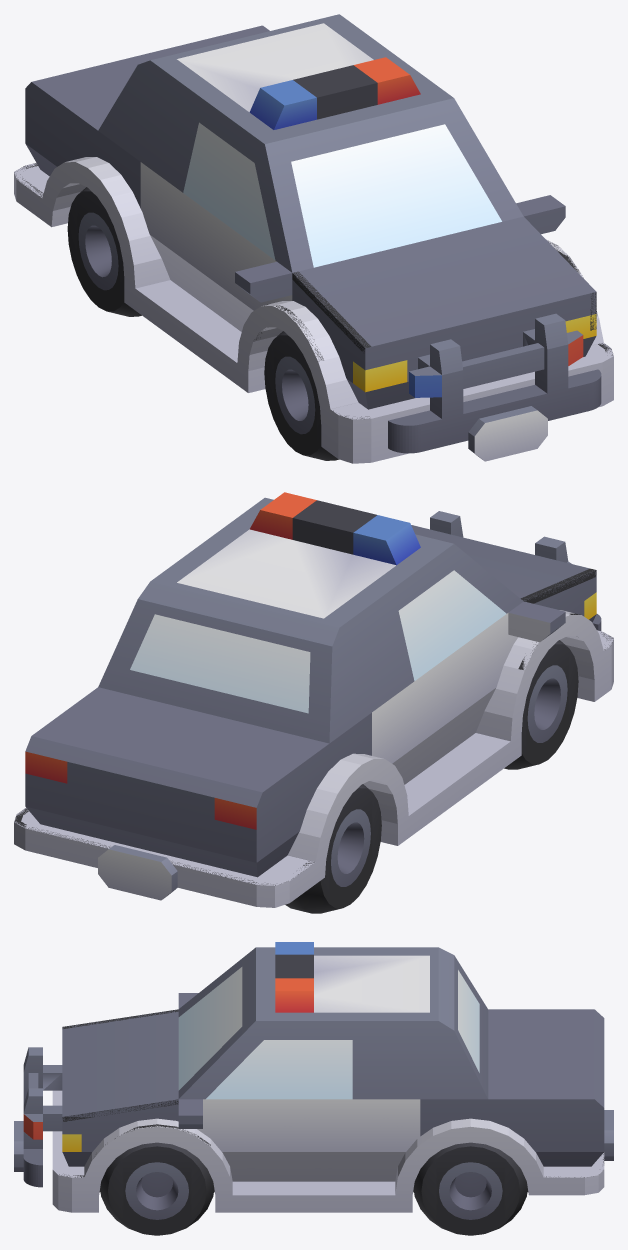
File: ToyPolice.fbx
3 views of the same model, one above another, from view 1: azimuth 30°, elevation 25°; view 2: azimuth 150°, elevation 25°; view 3: azimuth 270°, elevation 25° (orthographic). The views are drawn at different scales.
Visible parts, largest first — view 1: ToyPolice_Body, ToyPolice_Part_Hood, ToyPolice_Part_Grille, ToyPolice_Part_DoorRight, Wheel_FR, Wheel_RR, ToyPolice_Part_FrontBumper, ToyPolice_Part_Trunk, ToyPolice_Part_FenderRight, ToyPolice_Part_RearBumper; view 2: ToyPolice_Body, ToyPolice_Part_Trunk, ToyPolice_Part_RearBumper, ToyPolice_Part_DoorRight, Wheel_RR, Wheel_FR, ToyPolice_Part_Hood, ToyPolice_Part_FenderRight, ToyPolice_Part_FrontBumper, ToyPolice_Part_Grille; view 3: ToyPolice_Body, ToyPolice_Part_Trunk, ToyPolice_Part_DoorLeft, ToyPolice_Part_Hood, Wheel_FL, Wheel_RL, ToyPolice_Part_Grille, ToyPolice_Part_FenderLeft, ToyPolice_Part_FrontBumper, ToyPolice_Part_RearBumper.
Part boxes in pixels (bbox=[...]): ToyPolice_Body: bbox=[14, 14, 613, 463]; ToyPolice_Part_Hood: bbox=[293, 216, 596, 347]; ToyPolice_Part_Grille: bbox=[388, 313, 601, 461]; ToyPolice_Part_DoorRight: bbox=[146, 147, 258, 310]; Wheel_FR: bbox=[264, 331, 339, 460]; Wheel_RR: bbox=[67, 187, 141, 316]; ToyPolice_Part_FrontBumper: bbox=[308, 318, 613, 463]; ToyPolice_Part_Trunk: bbox=[32, 25, 269, 130]; ToyPolice_Part_FenderRight: bbox=[251, 261, 364, 382]; ToyPolice_Part_RearBumper: bbox=[14, 137, 54, 226]; ToyPolice_Body: bbox=[14, 492, 613, 900]; ToyPolice_Part_Trunk: bbox=[25, 687, 328, 807]; ToyPolice_Part_RearBumper: bbox=[14, 800, 324, 907]; ToyPolice_Part_DoorRight: bbox=[373, 626, 489, 763]; Wheel_RR: bbox=[285, 784, 381, 913]; Wheel_FR: bbox=[504, 640, 578, 769]; ToyPolice_Part_Hood: bbox=[411, 525, 594, 600]; ToyPolice_Part_FenderRight: bbox=[503, 571, 595, 695]; ToyPolice_Part_FrontBumper: bbox=[560, 607, 613, 701]; ToyPolice_Part_Grille: bbox=[430, 511, 601, 630]; ToyPolice_Body: bbox=[52, 942, 613, 1212]; ToyPolice_Part_Trunk: bbox=[488, 1009, 604, 1107]; ToyPolice_Part_DoorLeft: bbox=[232, 1083, 411, 1152]; ToyPolice_Part_Hood: bbox=[62, 1009, 178, 1116]; Wheel_FL: bbox=[100, 1142, 214, 1235]; Wheel_RL: bbox=[413, 1142, 527, 1235]; ToyPolice_Part_Grille: bbox=[14, 1047, 62, 1187]; ToyPolice_Part_FenderLeft: bbox=[62, 1099, 210, 1168]; ToyPolice_Part_FrontBumper: bbox=[52, 1146, 119, 1212]; ToyPolice_Part_RearBumper: bbox=[529, 1146, 604, 1195].
Bounding box in the file's own units: 1.5 × 1.3 × 3.1.
3 materials, 3 textured.
